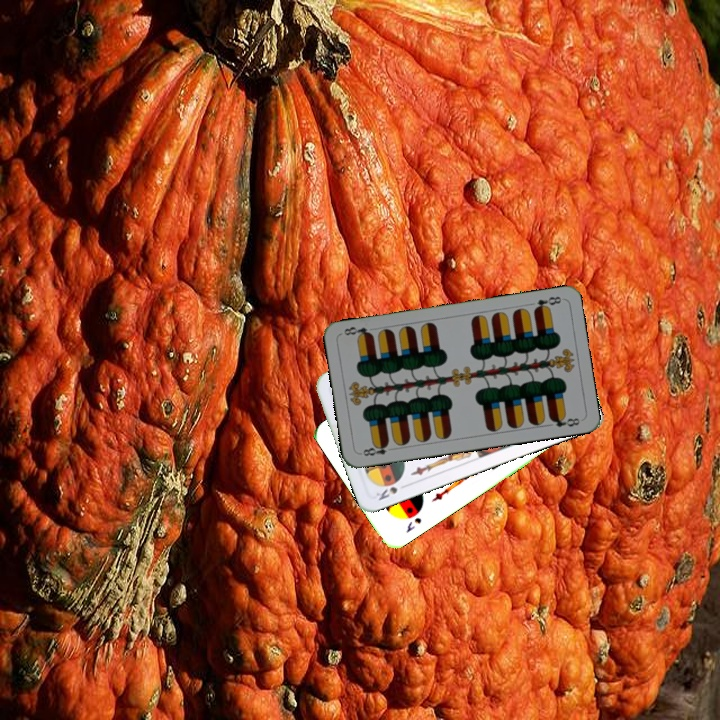E8: (357, 439, 397, 459), (530, 292, 564, 314)
SK: (372, 482, 400, 503), (402, 513, 424, 536)
